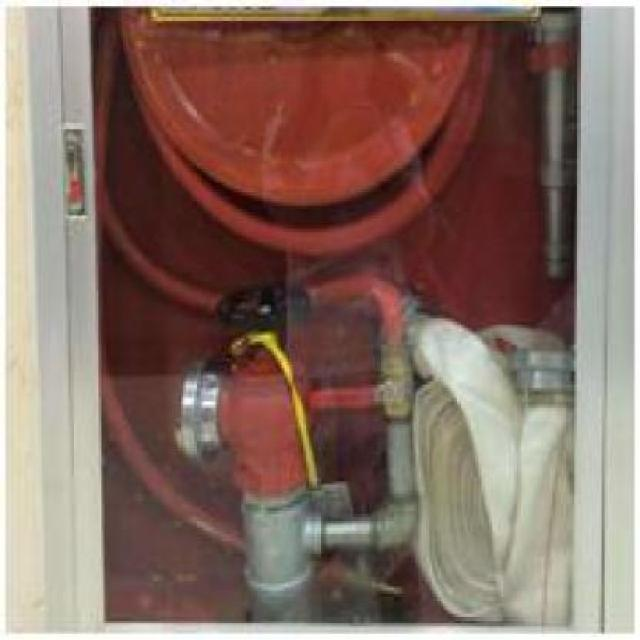firehydrant: (20, 6, 640, 639)
